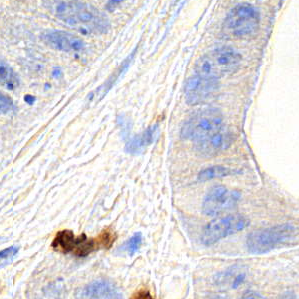Lymphocyte: (51, 230, 118, 255)
